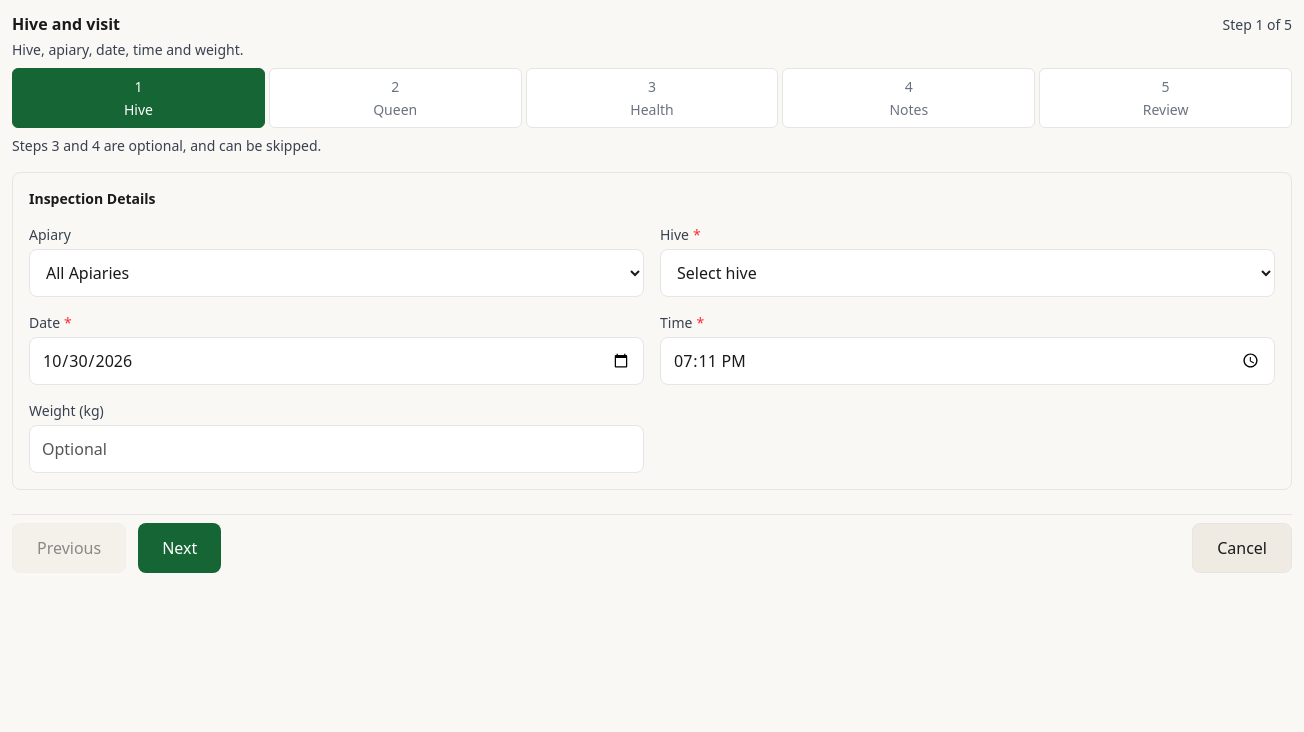
it: step gating › advances once the required fields are filled
Select "H1" in the dropdown labelled "Hive*" at [968, 272], box [660,248,1275,296]
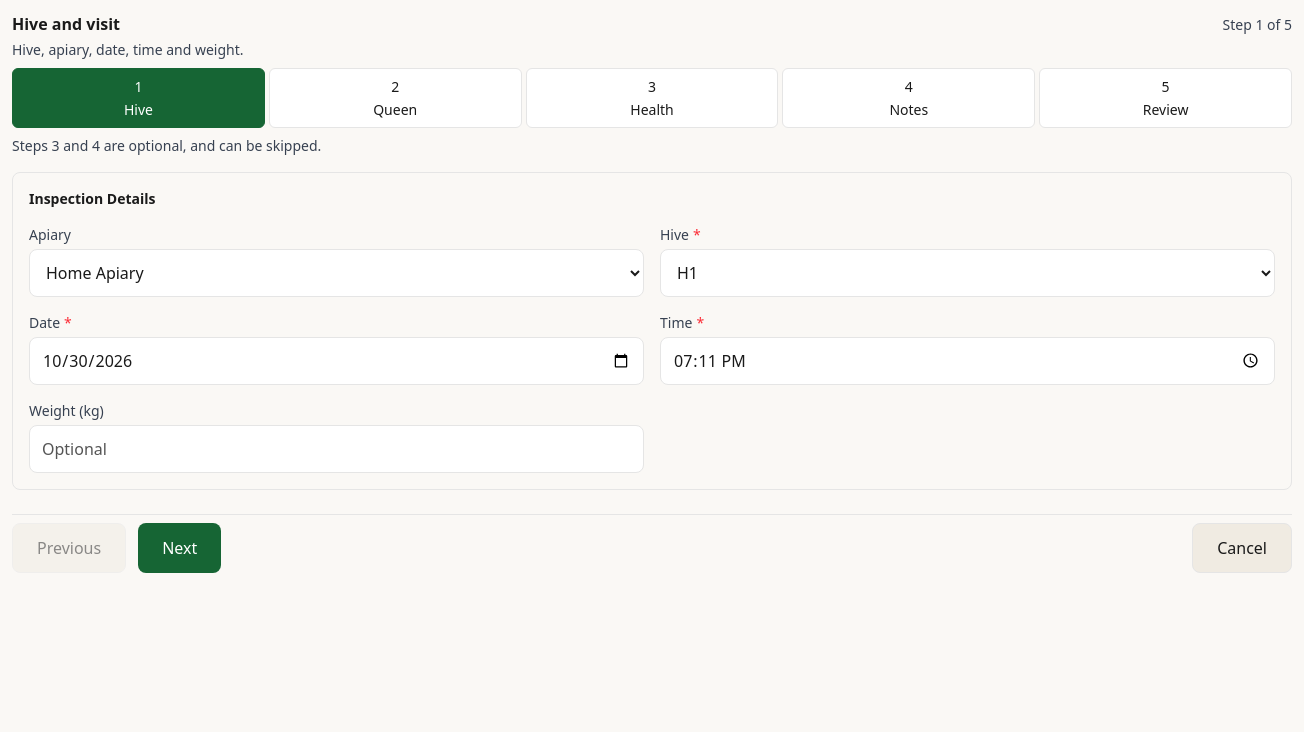
Click the button "Next" at [180, 548], box [138,522,221,572]
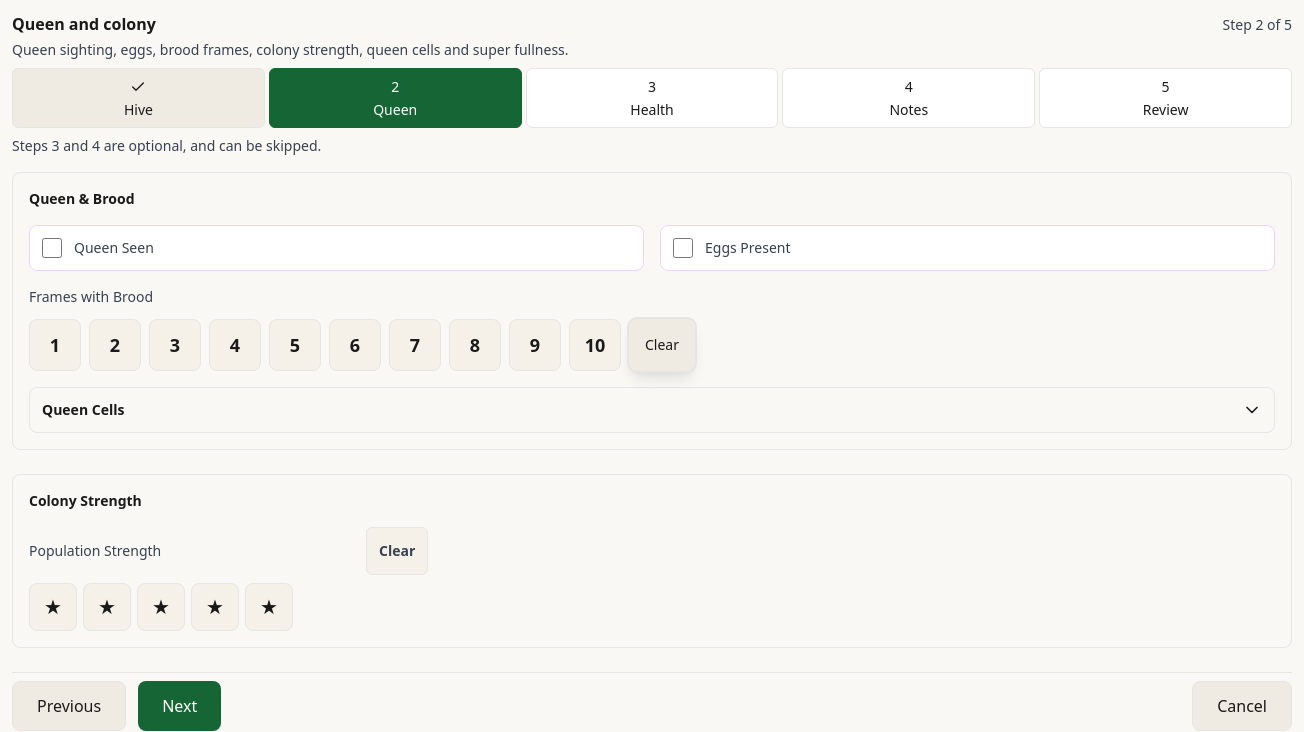
Check: the text "Step 2 of 5" is shown, box [1222,15,1292,35]
